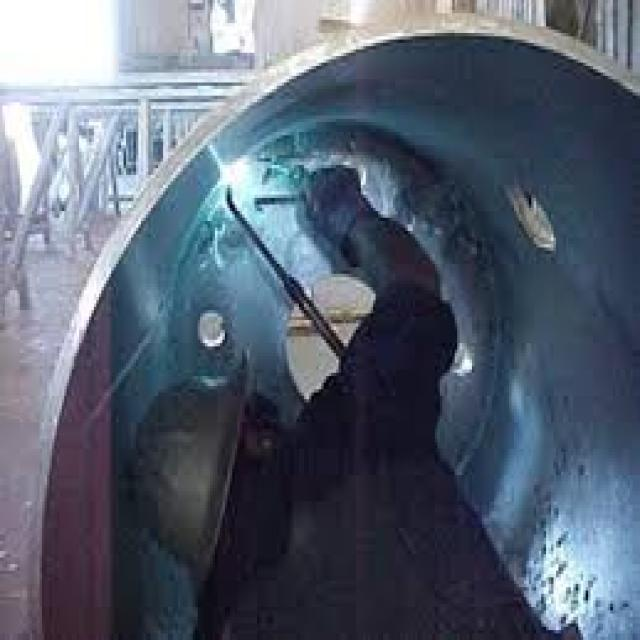welding: (221, 151, 248, 188)
